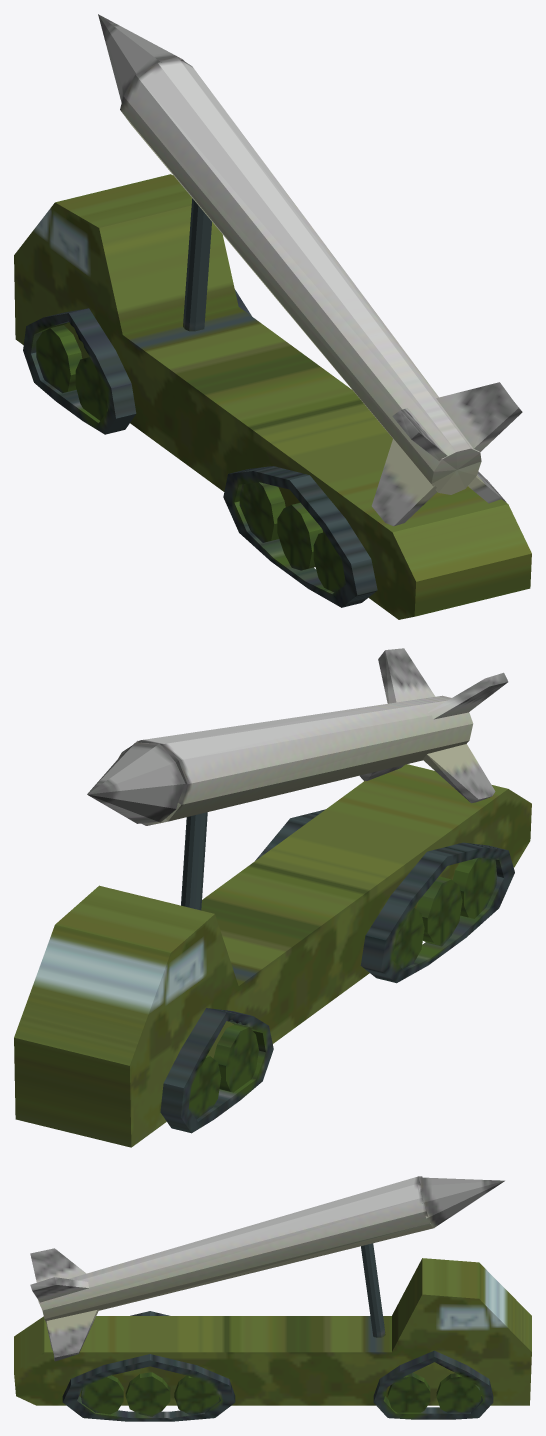
File: WarCar.glb
3 views of the same model, one above another, from view 1: azimuth 30°, elevation 25°; view 2: azimuth 150°, elevation 25°; view 3: azimuth 270°, elevation 25° (orthographic). The views are drawn at different scales.
Parts seen in each view (by area): view 1: WarCar; view 2: WarCar; view 3: WarCar.
Part boxes in pixels (bbox=[...]): WarCar: bbox=[14, 14, 531, 619]; WarCar: bbox=[14, 648, 531, 1147]; WarCar: bbox=[14, 1176, 531, 1421].
Bounding box in the file's own units: 78.75 × 163 × 349.
Materials: 1 (1 with a texture image).
